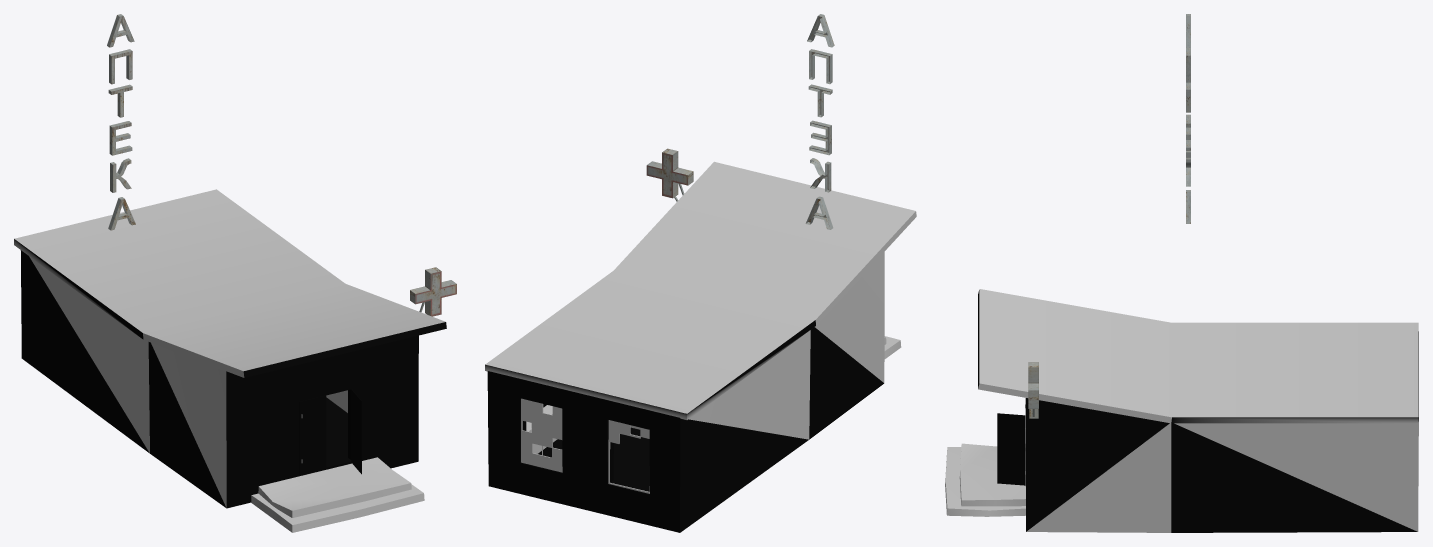
Rendered from Drugstore.FBX.
3 renders of one model, left to right at view 1: azimuth 30°, elevation 25°; view 2: azimuth 150°, elevation 25°; view 3: azimuth 270°, elevation 25°, orthographic. The views are drawn at different scales.
Parts seen in each view (by area): view 1: Drugstore_01, Drugstore_01Door, Drugstore_01Text, Drugstore_01Sign; view 2: Drugstore_01, Drugstore_01_Windows, Drugstore_01Text, Drugstore_01Sign; view 3: Drugstore_01, Drugstore_01Door, Drugstore_01Text, Drugstore_01Sign.
Boxes of the visible parts, box(x1,y1,x2,y2) form: Drugstore_01: box(14, 189, 446, 532); Drugstore_01Door: box(299, 389, 361, 474); Drugstore_01Text: box(107, 14, 135, 230); Drugstore_01Sign: box(410, 267, 456, 316); Drugstore_01: box(485, 161, 916, 532); Drugstore_01_Windows: box(521, 398, 649, 493); Drugstore_01Text: box(805, 14, 834, 229); Drugstore_01Sign: box(646, 148, 693, 201); Drugstore_01: box(945, 289, 1418, 532); Drugstore_01Door: box(997, 398, 1025, 485); Drugstore_01Text: box(1186, 14, 1190, 223); Drugstore_01Sign: box(1028, 362, 1038, 418).
Bounding box in the file's own units: 776 × 1254 × 1221.
